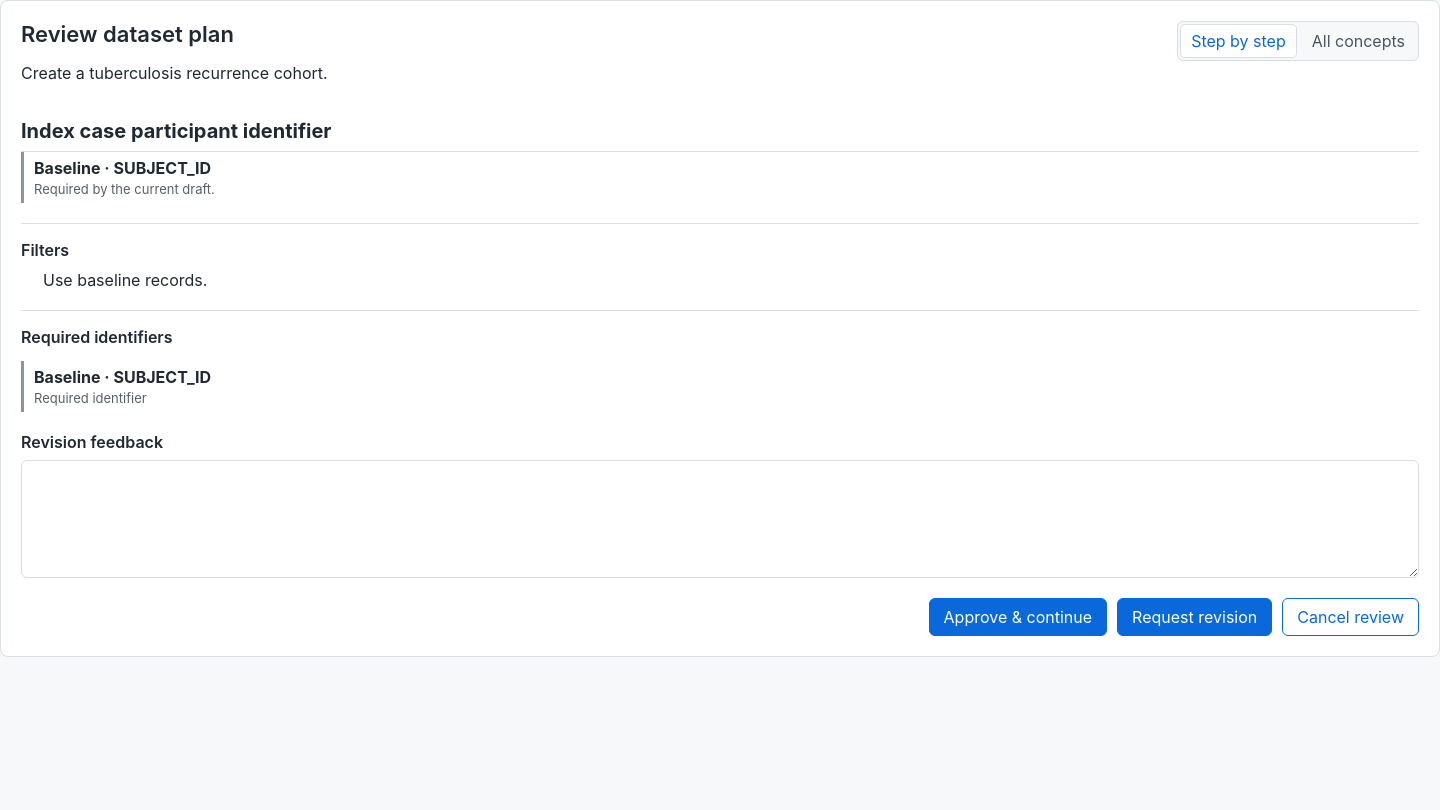
Scenario: DbRagReview › advances past a concept that contains only required fields
Click the button "Approve & continue". click: (1018,617)
box: [928,598,1107,636]
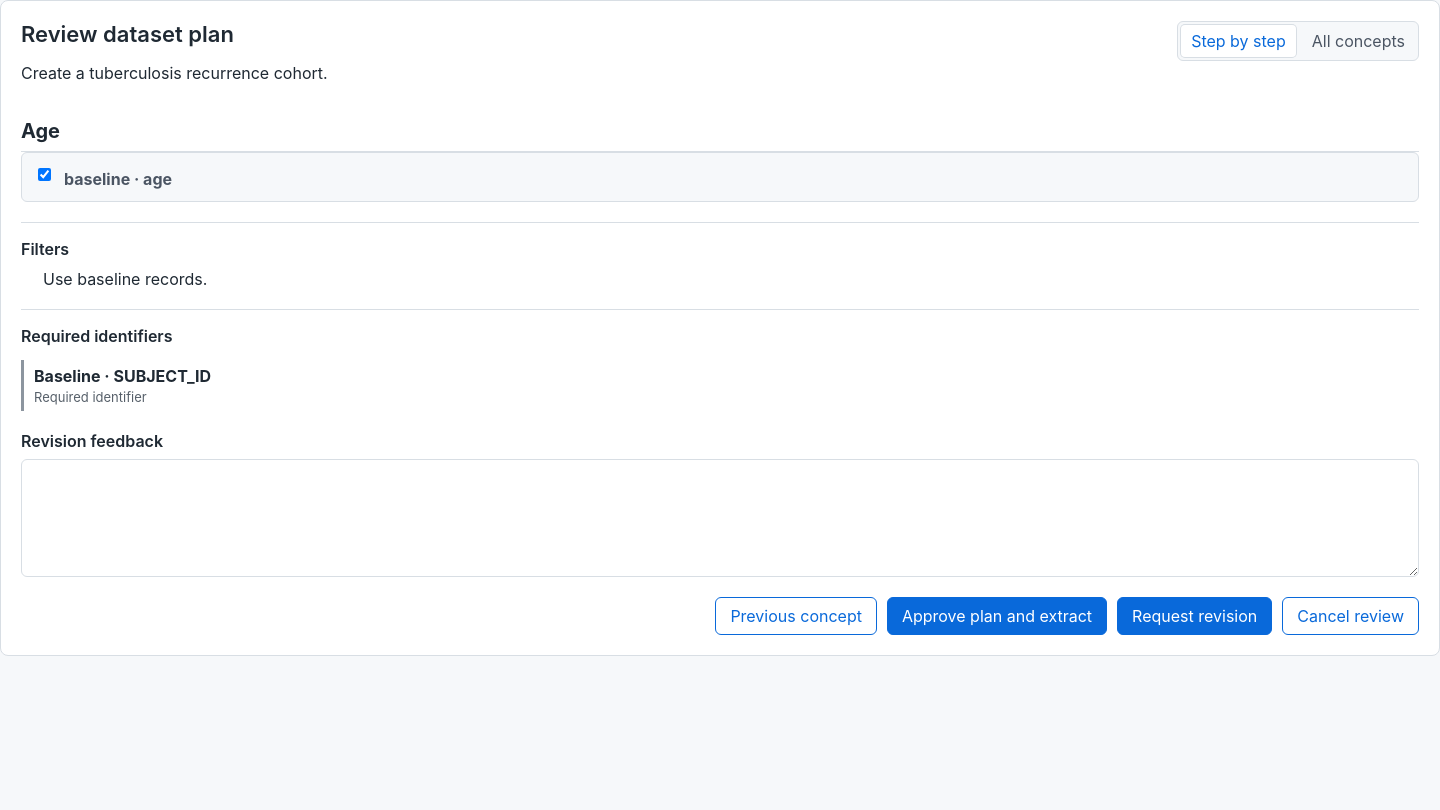
Expected: the heading "Age" is shown, [21,119,1419,152]
